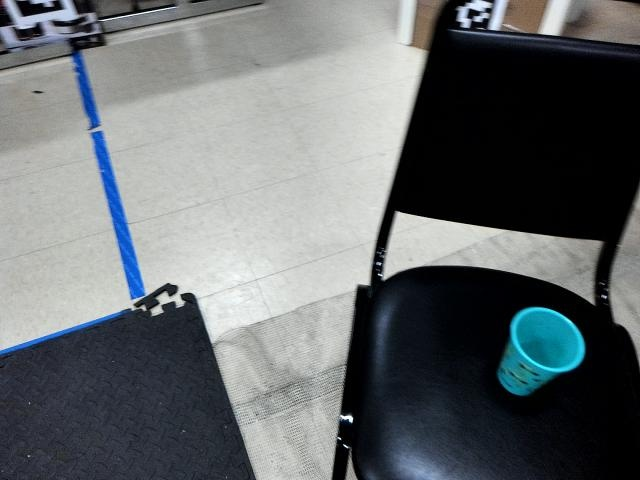coffee_cup: (498, 304, 585, 401)
